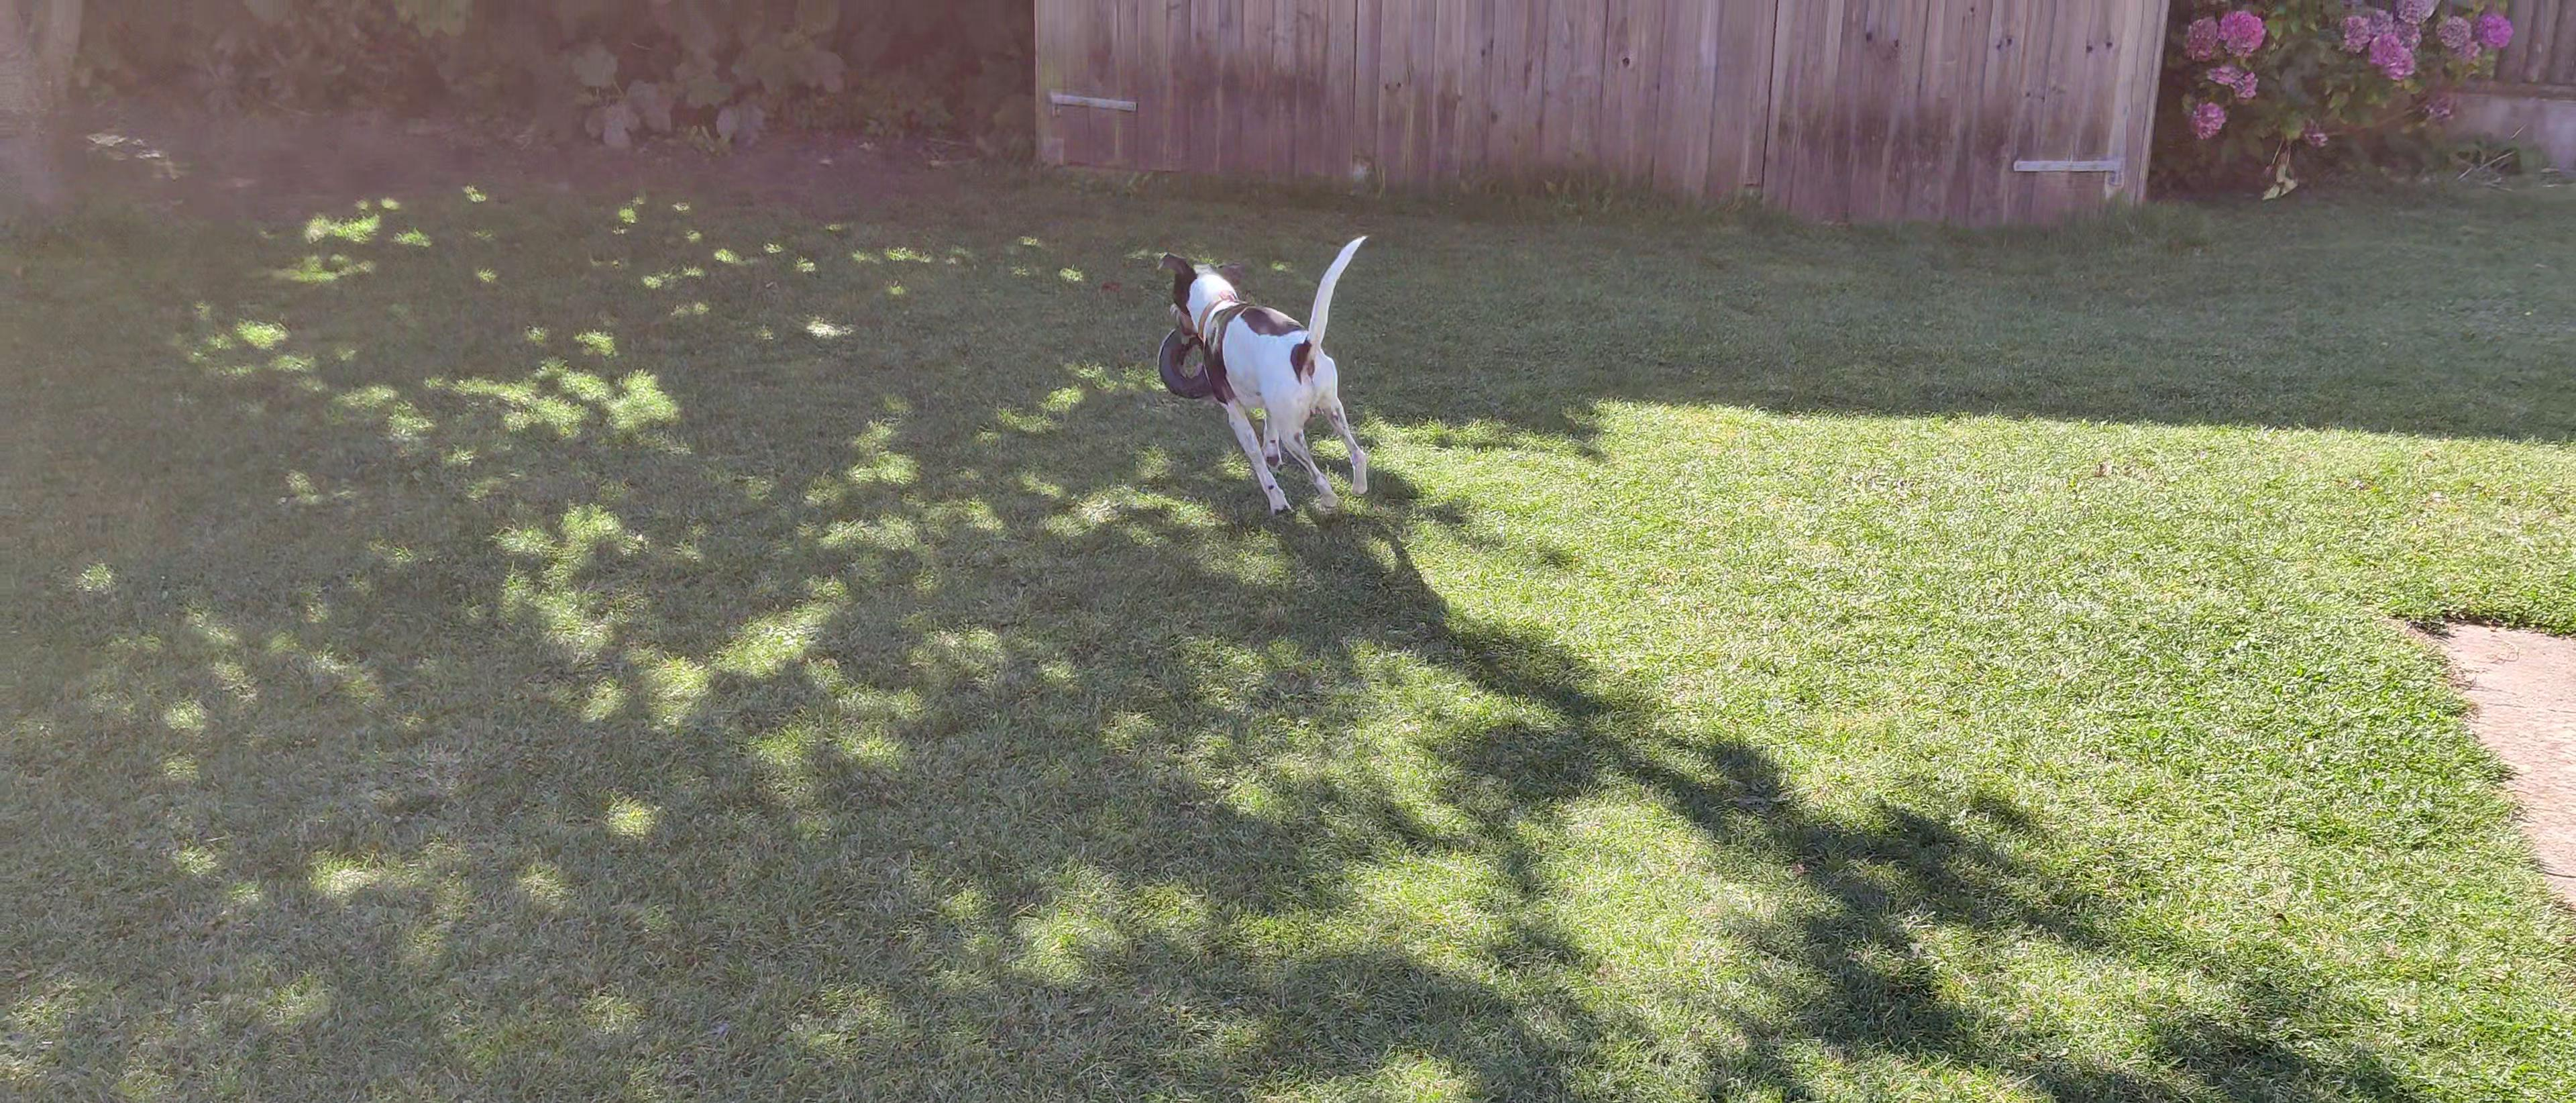Dog: (1145, 227, 1377, 519)
